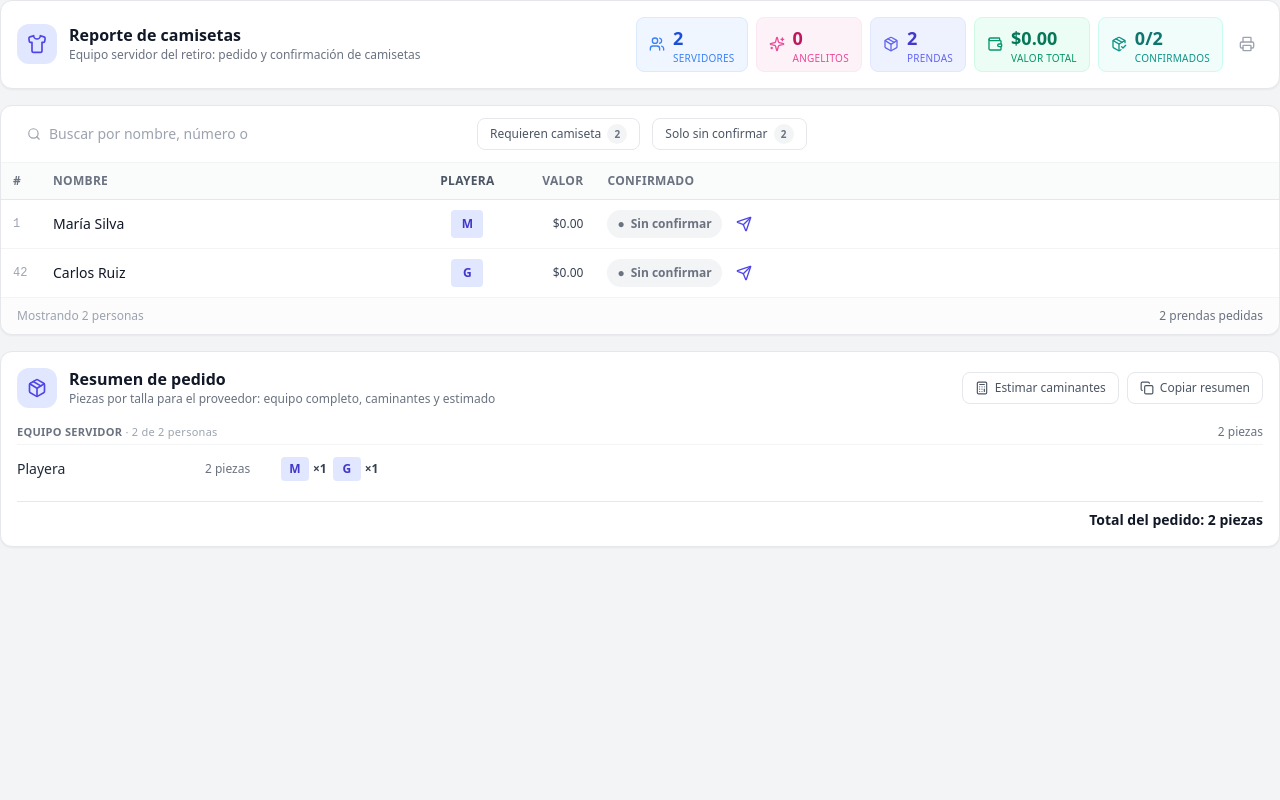
Test: ShirtsReportView › búsqueda › filtra por nombre (insensible a mayúsculas)
In the field with placeholder "Buscar por nombre, número o talla...": (150, 134) [17,118,283,150], type "maría"
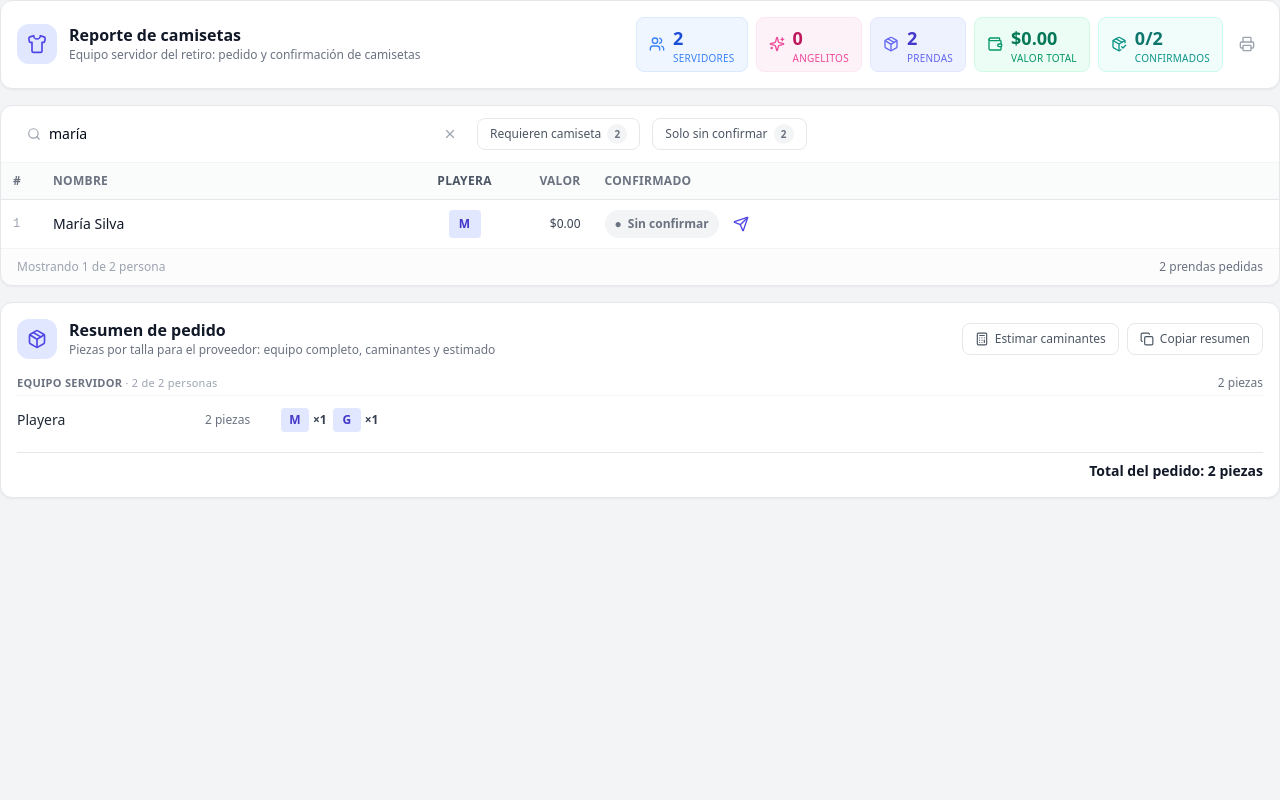
Expected: the text "María" is shown, [53,214,124,232]
Now the text "Carlos" is gone
